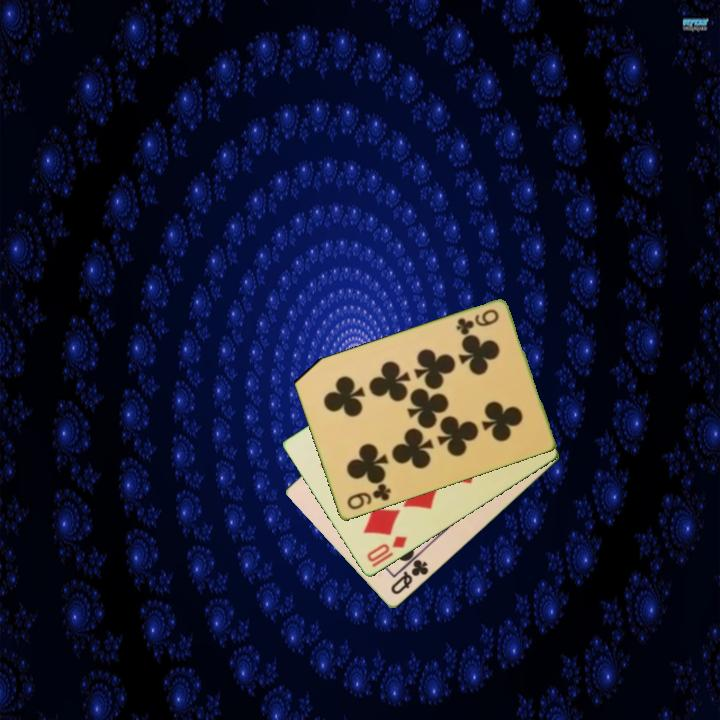10d: (363, 532, 410, 565)
9c: (343, 480, 394, 513), (453, 306, 501, 338)
Qc: (387, 556, 432, 598)
